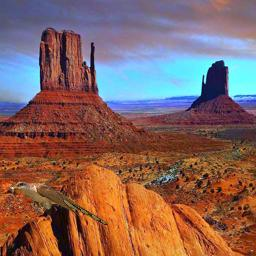Cuckoo: (8, 181, 108, 225)
